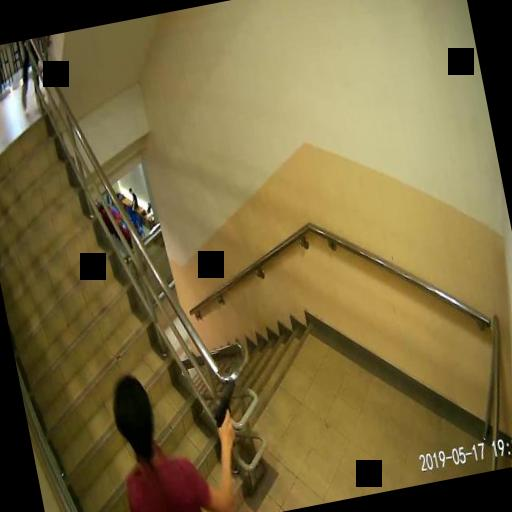Handgun: (207, 374, 243, 434)
